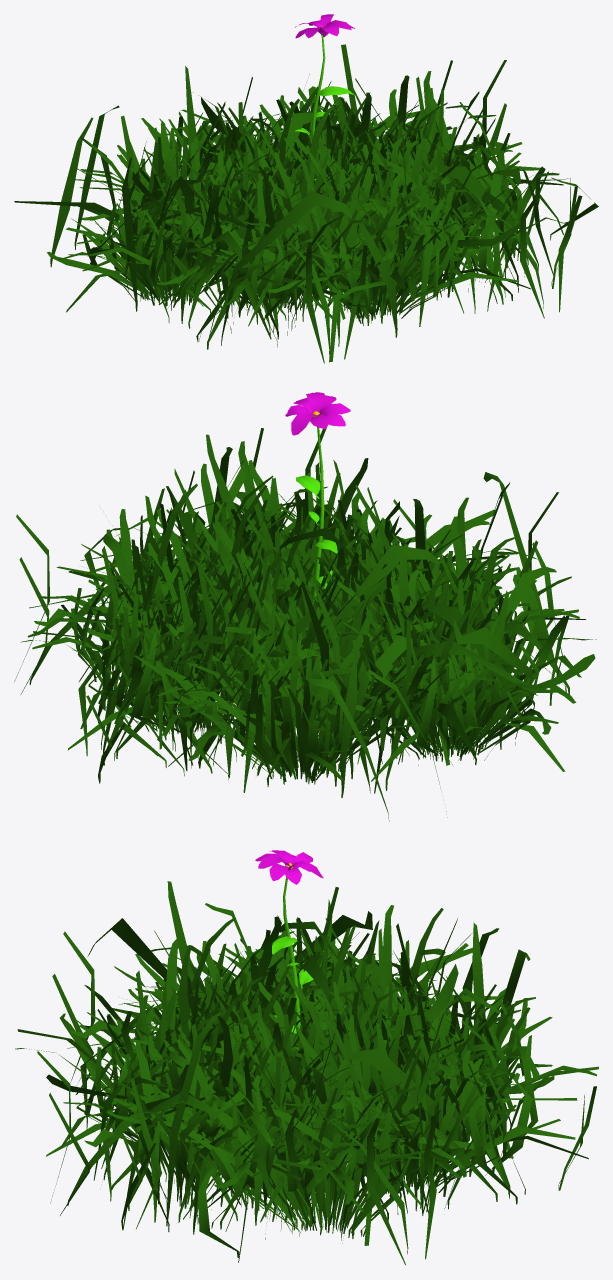
The model's file is Player_Idle.fbx.
3 renders of one model, top to bottom at view 1: azimuth 30°, elevation 25°; view 2: azimuth 150°, elevation 25°; view 3: azimuth 270°, elevation 25°, orthographic. The views are drawn at different scales.
Visible parts, largest first — view 1: Player; view 2: Player; view 3: Player.
Boxes of the visible parts, bbox=[...] form: Player: bbox=[14, 14, 598, 363]; Player: bbox=[14, 392, 596, 821]; Player: bbox=[15, 850, 598, 1264].
Size of the model in its own units: 172 by 90.58 by 161.
